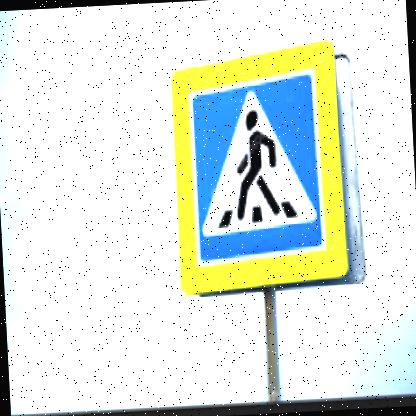crosswalk: (186, 69, 326, 262)
